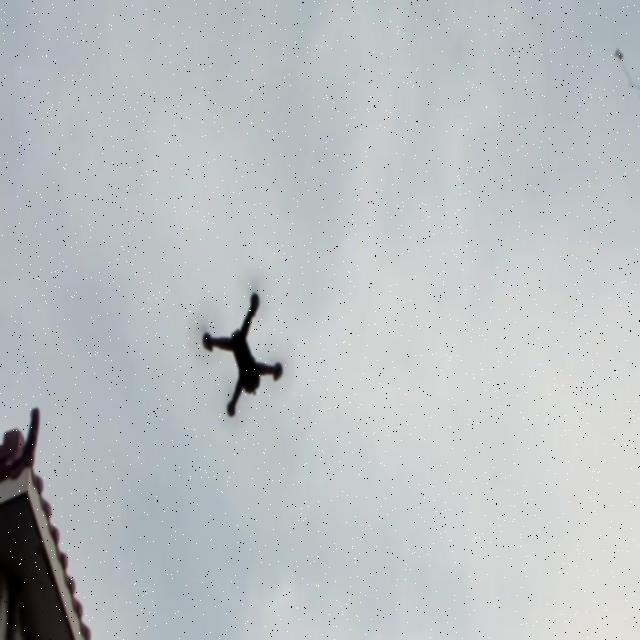UAV: (201, 289, 283, 419)
